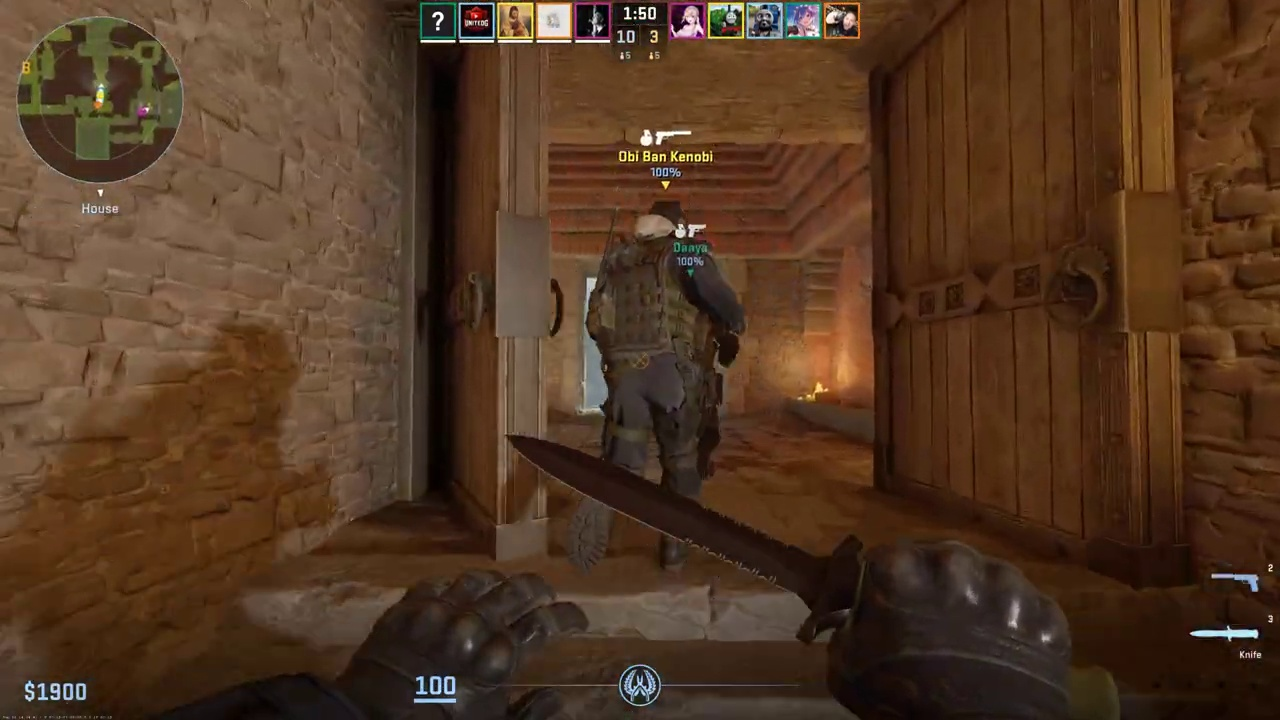CT: (590, 202, 728, 495)
